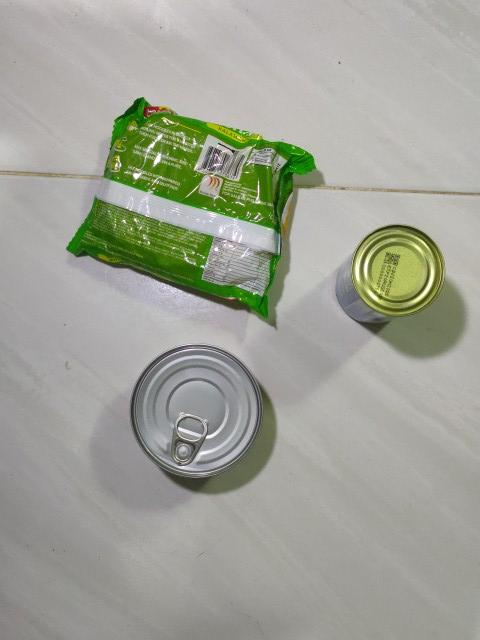Noodles: (73, 98, 313, 322)
canned-goods: (131, 342, 265, 481), (334, 223, 451, 337)
